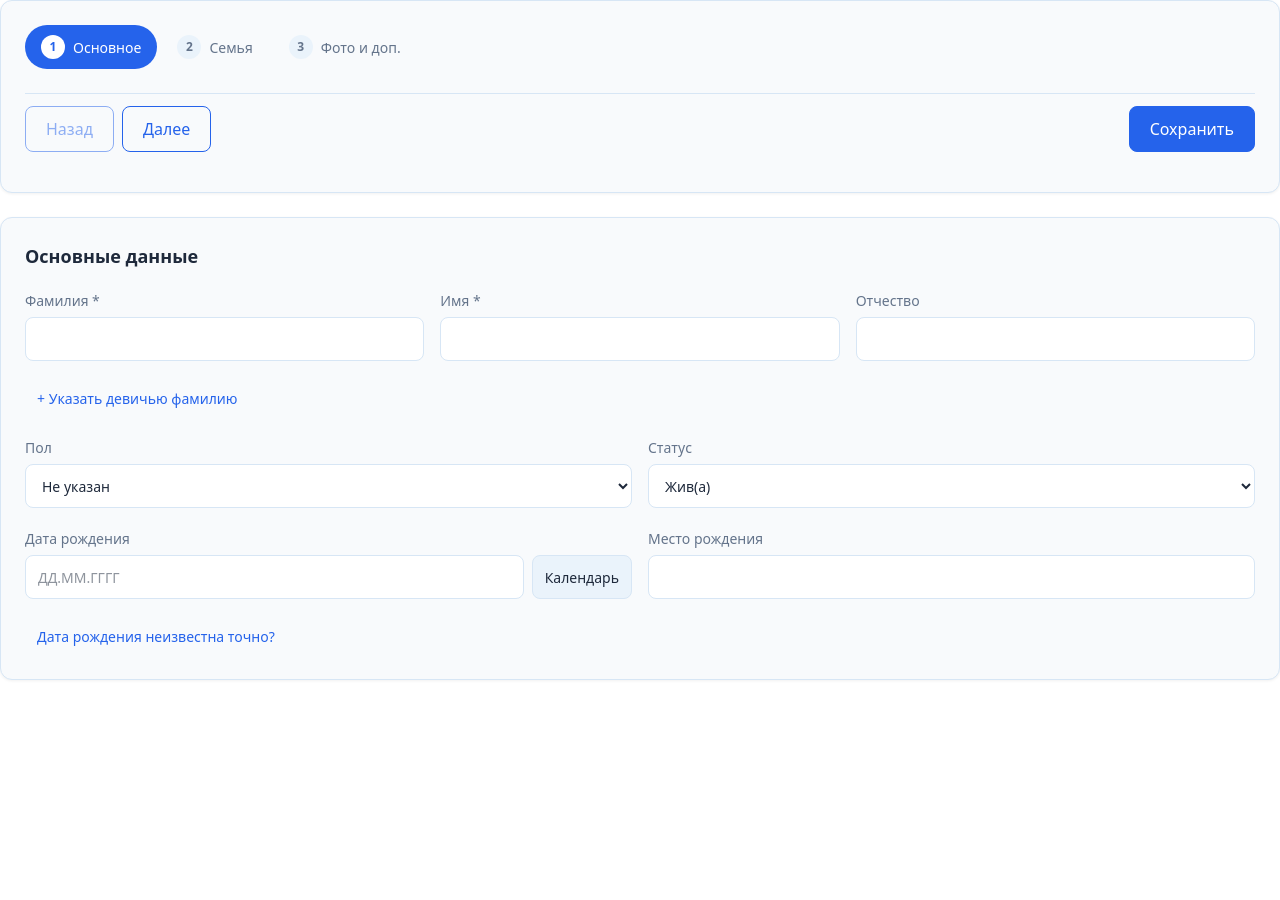
Test: PersonForm - family step › lets the user pick parents, a spouse and children
Click the button "2 Семья" at (215, 47), box [161,25,269,69]
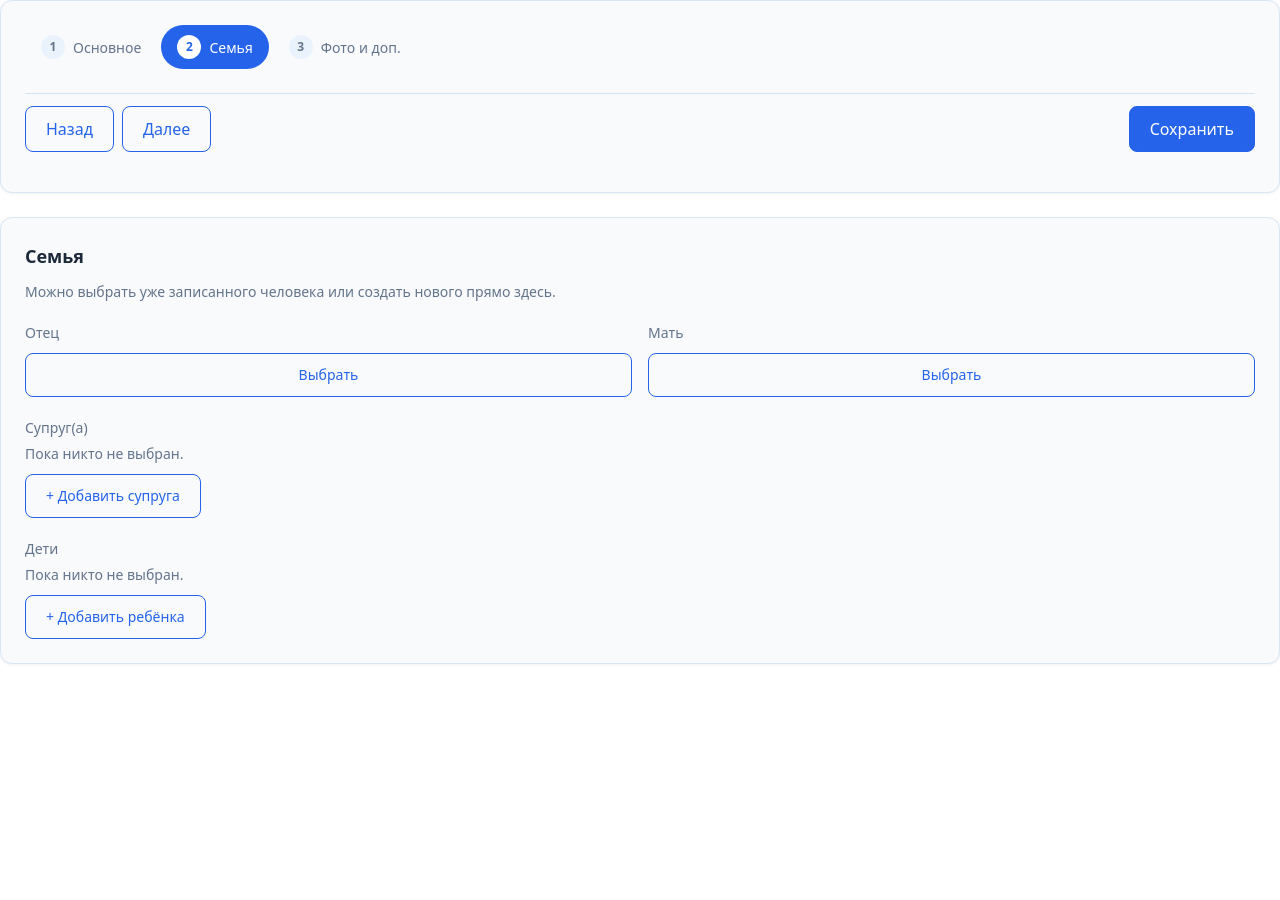
Check: the heading "Семья" is shown, box [25,244,84,268]
Check: the text "Отец" is shown, box [25,323,59,342]
Check: the text "Мать" is shown, box [648,323,684,342]
